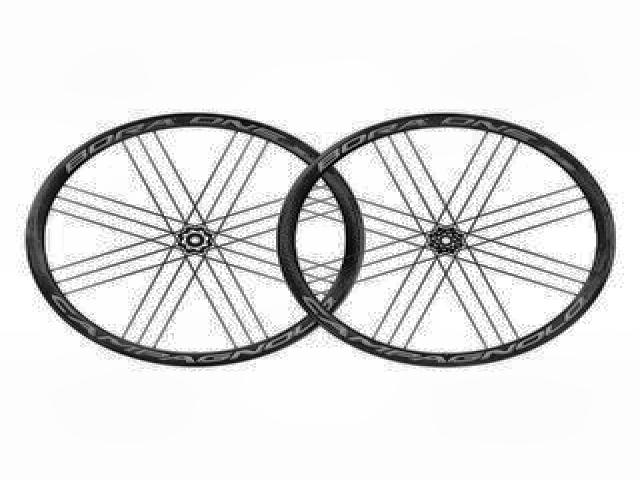wheel: (24, 110, 364, 372), (276, 108, 616, 370)
